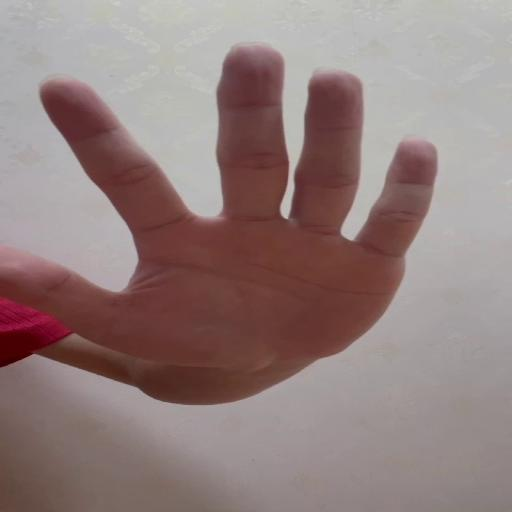open_palm: (0, 41, 439, 373)
